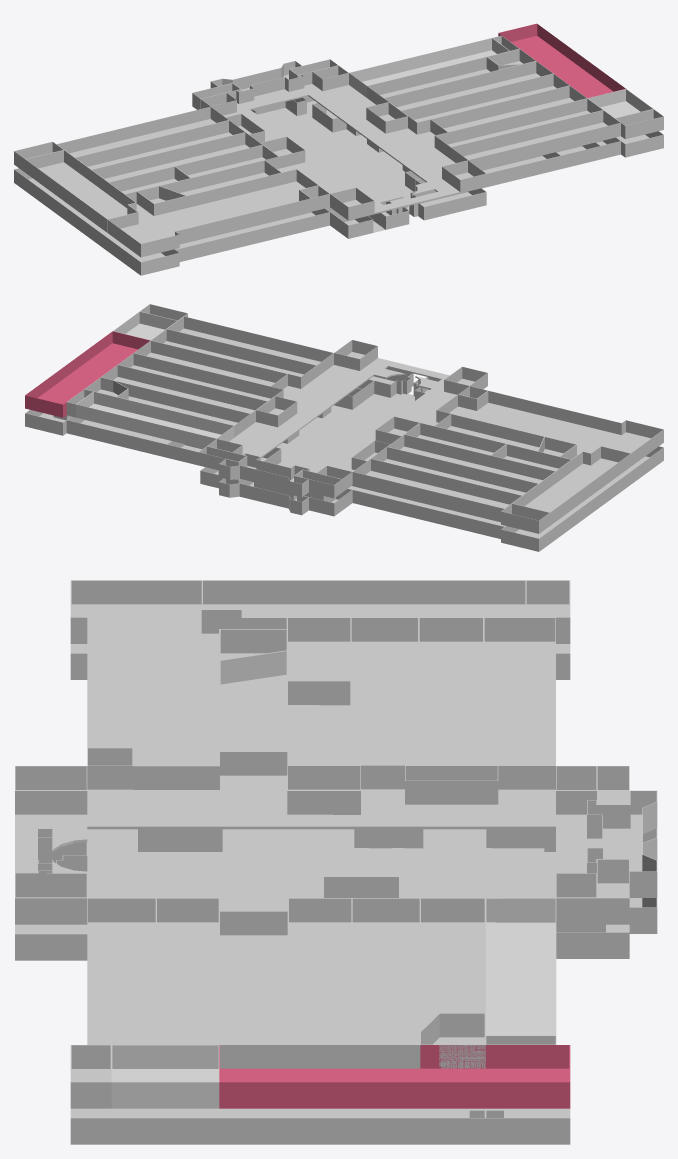
Rendered from floor1.glb.
The picture shows the model from 3 angles, top to bottom: view 1: azimuth 30°, elevation 25°; view 2: azimuth 150°, elevation 25°; view 3: azimuth 270°, elevation 25°; orthographic projection. The views are drawn at different scales.
Visible parts, largest first — view 1: room_2_null5, room_2_hall, room_2_7, room_1_hall_1, room_2_16, room_2_2.001, room_1_12, room_2_19, room_1_9, room_2_1_3, room_2_null3, room_2_1 (+34 smaller); view 2: room_2_null5, room_2_hall, room_2_19, room_2_1_3, room_2_16, room_2_2.001, room_1_hall_1, room_1_12, room_2_7, room_1_19, room_2_null2, room_2_1 (+31 smaller); view 3: room_2_null5, room_2_hall, room_2_2.001, room_1_5, room_2_19, room_2_16, room_2_1, room_2_14, room_2_5, room_2_null3, room_2_7, room_2_1_3 (+36 smaller).
Part boxes in pixels (x1,y1,x2,y2): room_2_null5: (107, 169, 318, 257); room_2_hall: (223, 84, 455, 195); room_2_7: (450, 110, 620, 169); room_1_hall_1: (257, 108, 412, 214); room_2_16: (25, 150, 137, 232); room_2_2.001: (498, 23, 625, 98); room_1_12: (14, 168, 179, 275); room_2_19: (57, 106, 228, 157); room_1_9: (175, 208, 329, 261); room_2_1_3: (349, 38, 509, 97); room_2_null3: (401, 73, 569, 134); room_2_1: (383, 61, 553, 110); room_2_null5: (436, 390, 663, 466); room_2_hall: (229, 365, 456, 471); room_2_19: (352, 459, 521, 520); room_2_1_3: (76, 391, 234, 448); room_2_16: (512, 446, 630, 525); room_2_2.001: (25, 331, 150, 417); room_1_hall_1: (278, 393, 414, 472); room_1_12: (501, 446, 663, 551); room_2_7: (167, 316, 333, 376); room_1_19: (348, 485, 505, 538); room_2_null2: (151, 329, 316, 388); room_2_1: (101, 365, 267, 425); room_2_null5: (70, 580, 287, 789); room_2_hall: (87, 775, 602, 911); room_2_2.001: (219, 1045, 570, 1108); room_1_5: (70, 1108, 485, 1144); room_2_19: (484, 617, 555, 789); room_2_16: (202, 580, 526, 617); room_2_1: (352, 898, 420, 1068); room_2_14: (351, 617, 418, 789); room_2_5: (219, 911, 288, 1068); room_2_null3: (288, 898, 351, 1068); room_2_7: (87, 898, 156, 1044); room_2_1_3: (485, 898, 556, 1035).
Size of the model in its own units: 4.09 by 0.2367 by 2.23.
